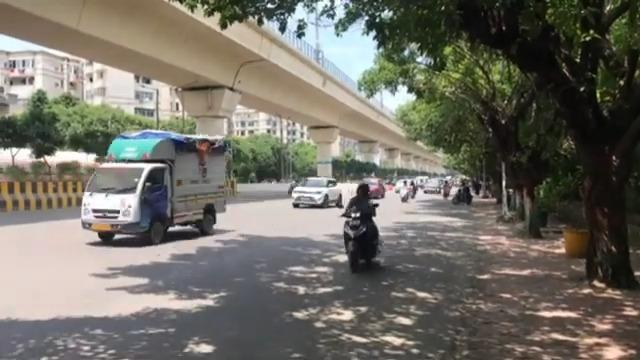Bike: (339, 181, 382, 273), (451, 179, 472, 205), (398, 176, 413, 204), (287, 179, 299, 196)
Car: (290, 175, 343, 208), (361, 176, 385, 199)
Truck: (79, 128, 231, 245)
